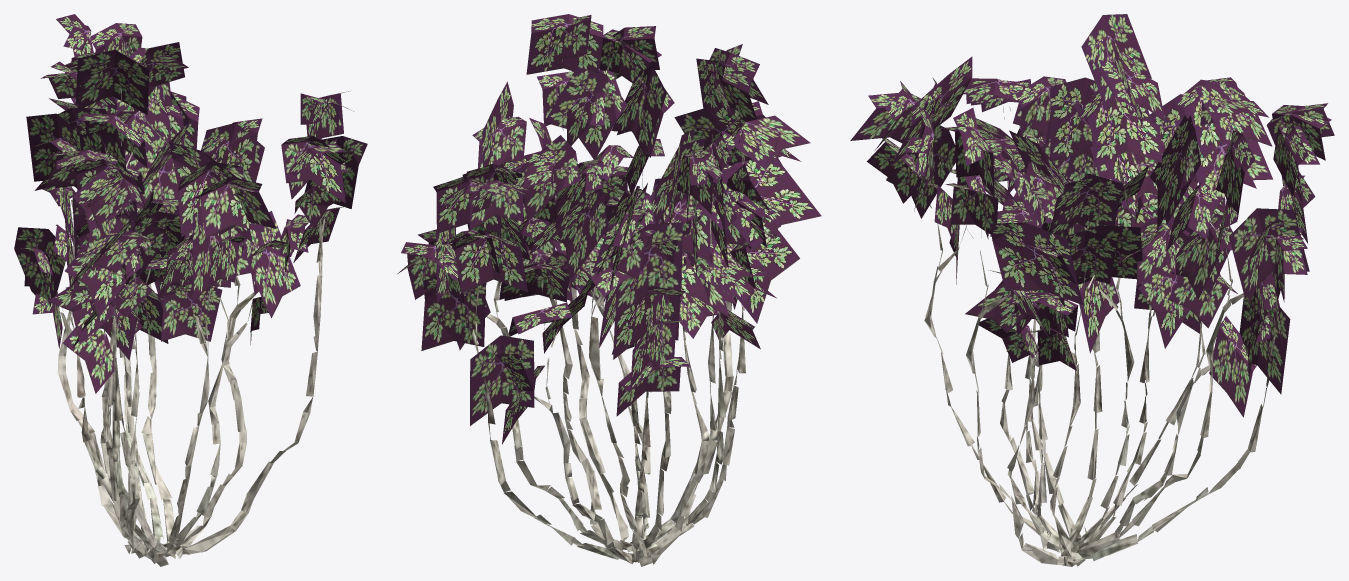
The model's file is bush_4.obj.
3 views of the same model, side by side, from view 1: azimuth 30°, elevation 25°; view 2: azimuth 150°, elevation 25°; view 3: azimuth 270°, elevation 25° (orthographic). The views are drawn at different scales.
Parts seen in each view (by area): view 1: Bush_1_3; view 2: Bush_1_3; view 3: Bush_1_3.
Boxes of the visible parts, x1,y1,x2,y2 form: Bush_1_3: (14,14,367,566); Bush_1_3: (397,14,821,566); Bush_1_3: (850,14,1334,566).
Size of the model in its own units: 0.4452 by 0.6987 by 0.5819.
1 material, 1 textured.
